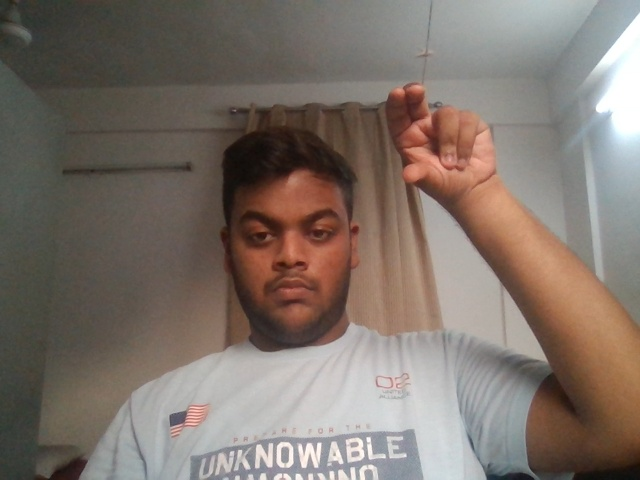No: (362, 64, 553, 231)
